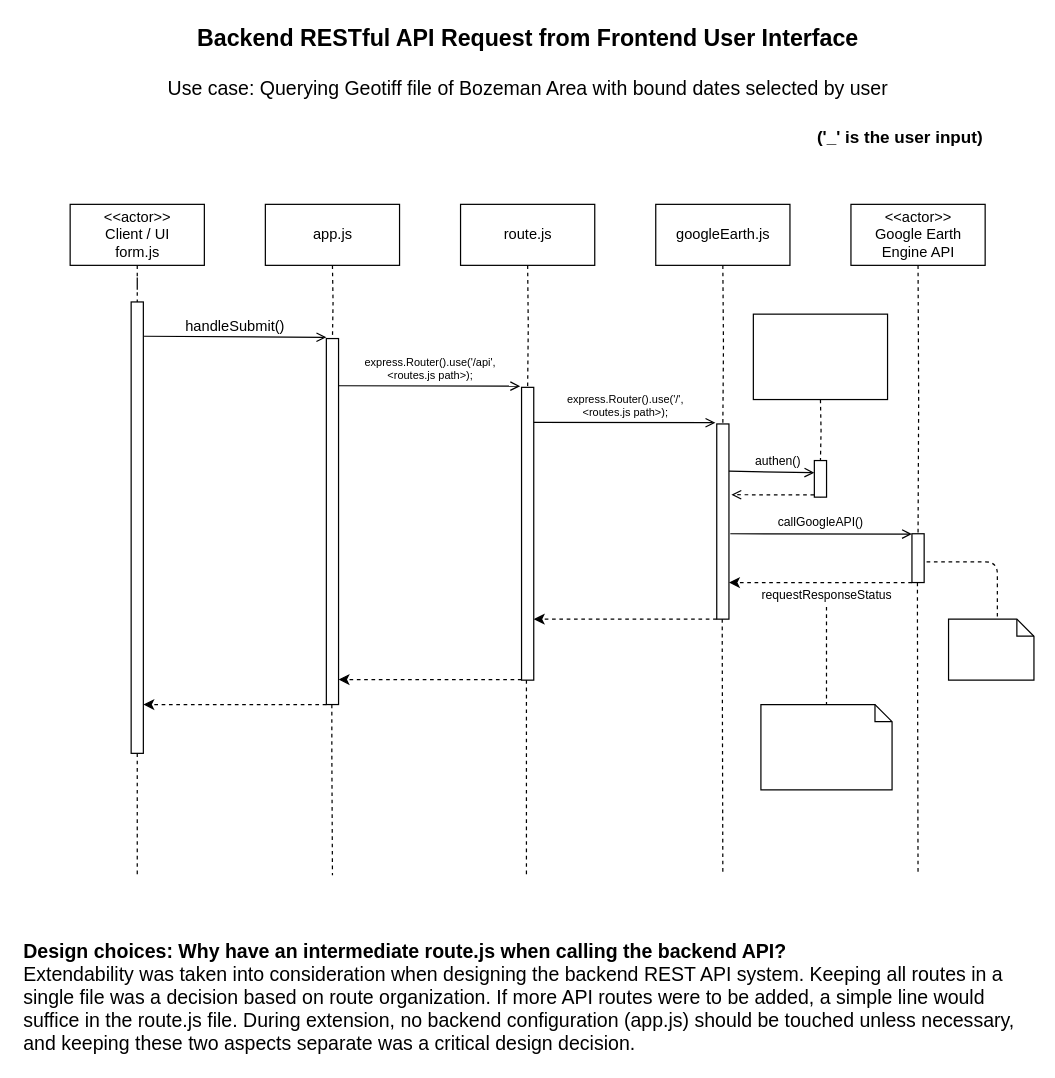
Image size: 1055x1078. Some labels were removed from this diagram. The shapes that lost their labels are listed below. From the top down, each one's centre as x and y in pixels, then its label:
At point (820, 356): "<<actor>> Google Authentication authenticate.js".
At point (990, 649): "Sends requests data to user's google drive.".
At point (826, 746): "Whether the data was dropped off in the user's google drive".
